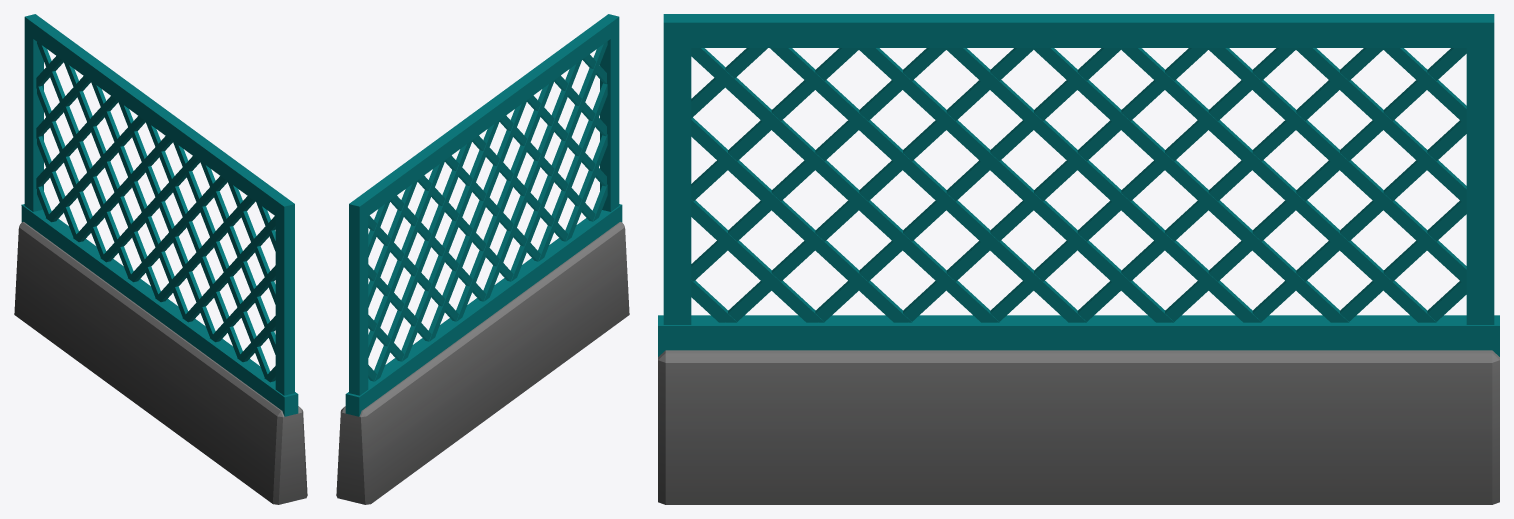
The model's file is Fence_1_C_6.glb.
The picture shows the model from 3 angles, left to right: view 1: azimuth 30°, elevation 25°; view 2: azimuth 150°, elevation 25°; view 3: azimuth 270°, elevation 25°; orthographic projection. The views are drawn at different scales.
Parts seen in each view (by area): view 1: Fence_1_C_6; view 2: Fence_1_C_6; view 3: Fence_1_C_6.
Boxes of the visible parts, x1,y1,x2,y2 form: Fence_1_C_6: (14,14,307,504); Fence_1_C_6: (336,14,629,504); Fence_1_C_6: (658,14,1499,504).
Size of the model in its own units: 0.3052 by 2.48 by 4.
2 materials, 2 textured.
